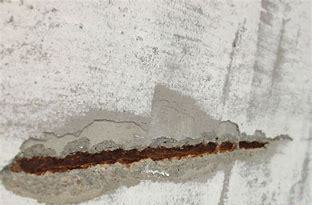Exposed reinforcement: (9, 139, 270, 176)
Spalling: (1, 82, 295, 205)
